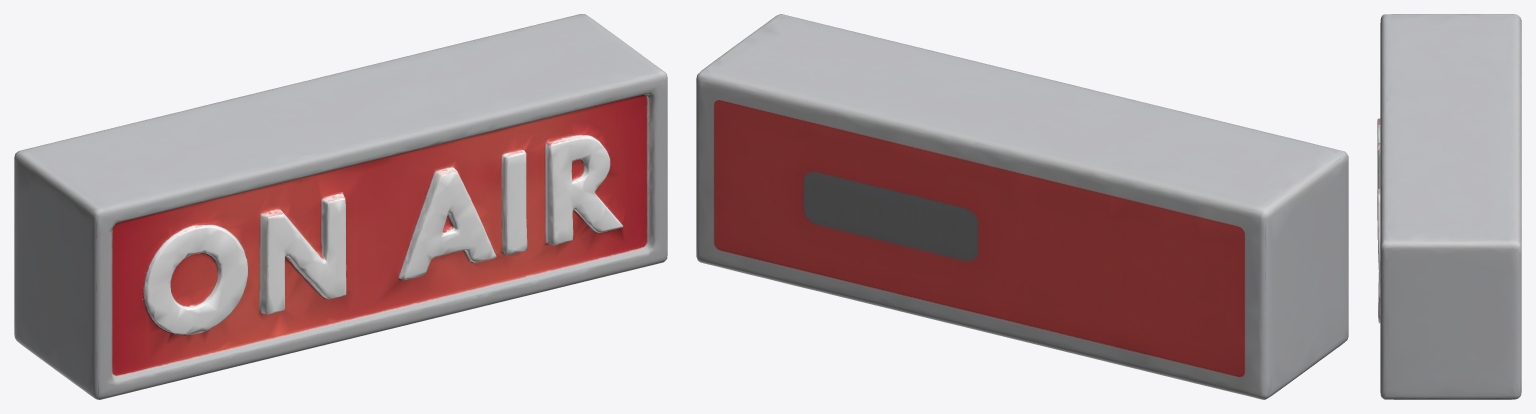
Rendered from OnAirSign.glb.
The picture shows the model from 3 angles, left to right: view 1: azimuth 30°, elevation 25°; view 2: azimuth 150°, elevation 25°; view 3: azimuth 270°, elevation 25°; orthographic projection. The views are drawn at different scales.
Parts seen in each view (by area): view 1: Object_2; view 2: Object_2; view 3: Object_2.
Part boxes in pixels (<box>): Object_2: <box>14,14,667,399</box>; Object_2: <box>696,14,1348,399</box>; Object_2: <box>1377,14,1521,399</box>.
Bounding box in the file's own units: 1.91 × 0.6103 × 0.5036.
1 material, 1 textured.
